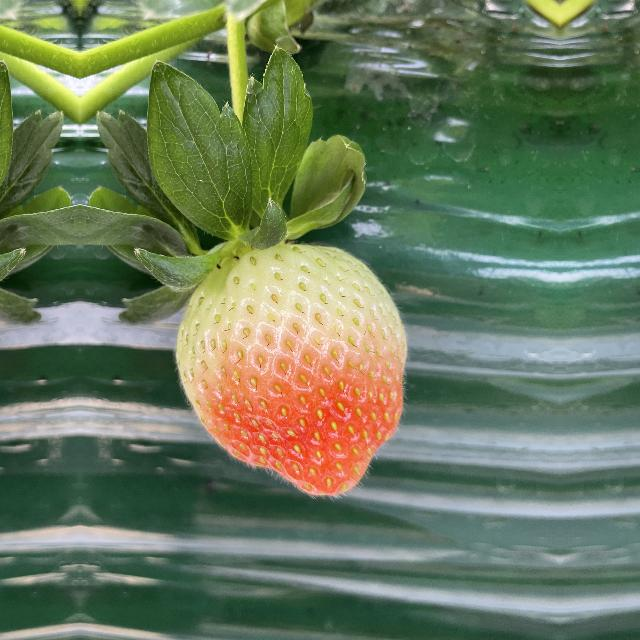Health_75: (175, 232, 422, 494)
